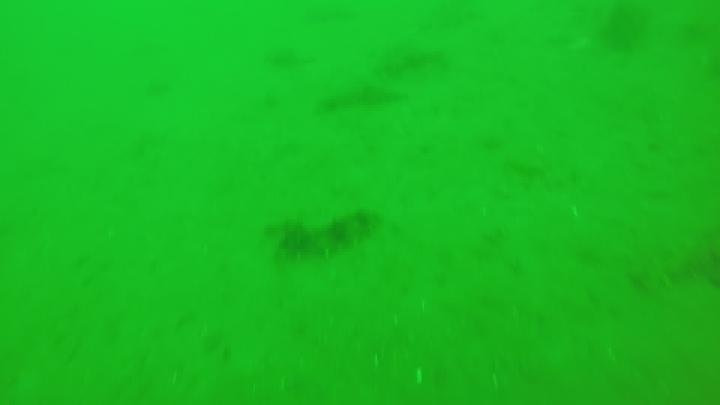echinus: (599, 5, 651, 55)
holothurian: (263, 206, 382, 263), (627, 235, 719, 294), (317, 81, 406, 114)
